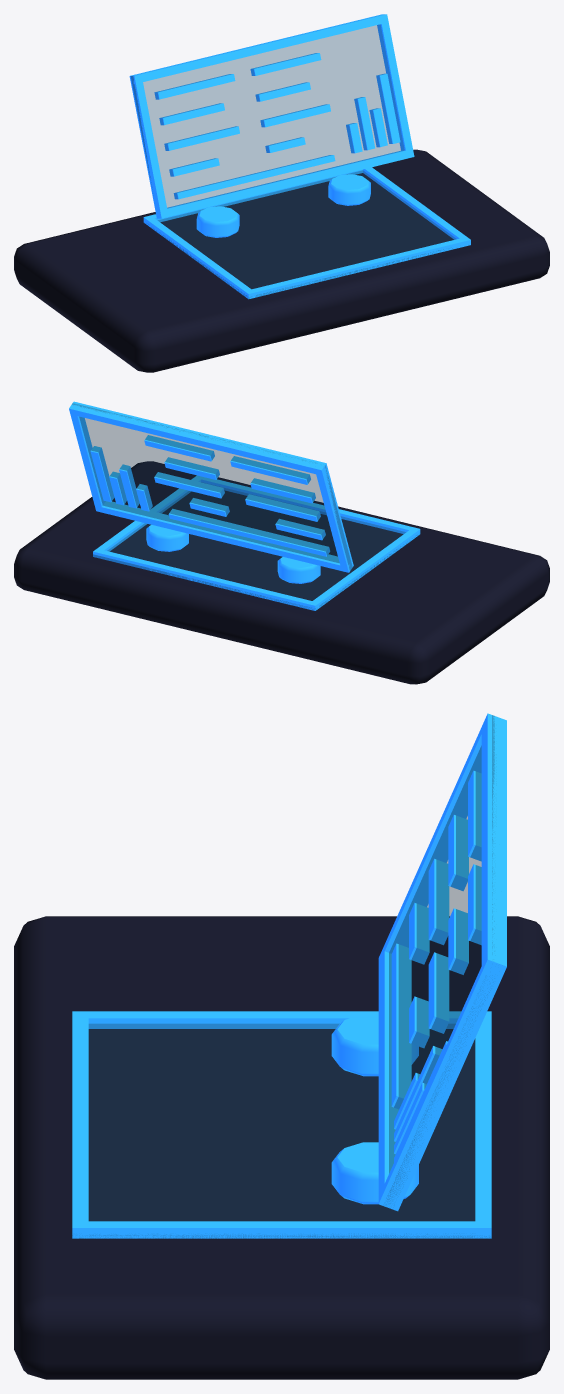
File: holo_reader.glb
3 renders of one model, top to bottom at view 1: azimuth 30°, elevation 25°; view 2: azimuth 150°, elevation 25°; view 3: azimuth 270°, elevation 25°, orthographic. The views are drawn at different scales.
Parts seen in each view (by area): view 1: item.holo_reader.body; view 2: item.holo_reader.body; view 3: item.holo_reader.body.
Boxes of the visible parts, <box> form: item.holo_reader.body: <box>14,14,549,372</box>; item.holo_reader.body: <box>14,401,549,684</box>; item.holo_reader.body: <box>14,713,549,1379</box>.
Bounding box in the file's own units: 0.5125 × 0.2269 × 0.2875.
